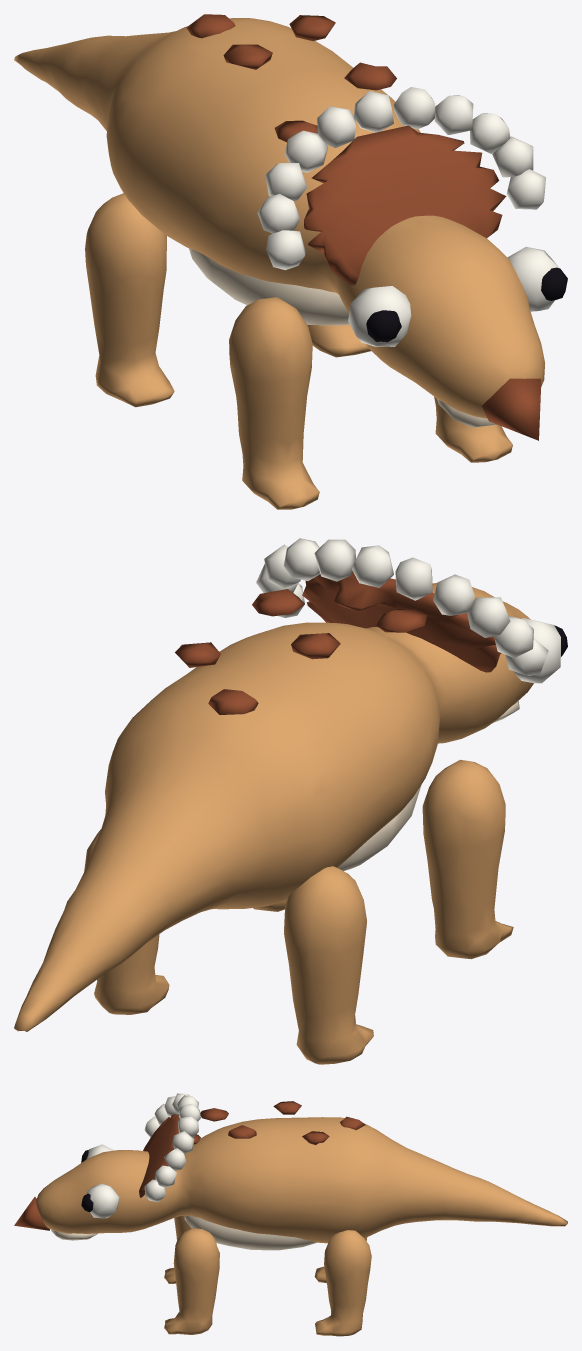
Rendered from Dino_Protoceratops.fbx.
The picture shows the model from 3 angles, top to bottom: view 1: azimuth 30°, elevation 25°; view 2: azimuth 150°, elevation 25°; view 3: azimuth 270°, elevation 25°; orthographic projection. The views are drawn at different scales.
Visible parts, largest first — view 1: Body, Accent, EyeWhite, LegFL, LegBL, Belly, LegFR, Pupil, LegBR; view 2: Body, LegFL, LegBL, EyeWhite, Accent, LegBR, Belly; view 3: Body, LegFR, LegBR, EyeWhite, Accent, Belly, LegFL.
Boxes of the visible parts, x1,y1,x2,y2 form: Body: [14, 18, 544, 418]; Accent: [186, 14, 541, 440]; EyeWhite: [257, 87, 559, 346]; LegFL: [229, 297, 319, 509]; LegBL: [85, 193, 174, 407]; Belly: [189, 248, 496, 427]; LegFR: [434, 396, 512, 462]; Pupil: [366, 267, 567, 342]; LegBR: [307, 324, 370, 357]; Body: [14, 583, 533, 1031]; LegFL: [422, 759, 513, 959]; LegBL: [284, 866, 373, 1064]; EyeWhite: [256, 538, 560, 683]; Accent: [175, 571, 501, 714]; LegBR: [84, 829, 169, 1014]; Belly: [338, 701, 519, 871]; Body: [36, 1117, 567, 1243]; LegFR: [164, 1228, 219, 1334]; LegBR: [315, 1230, 371, 1336]; EyeWhite: [86, 1093, 200, 1218]; Accent: [14, 1101, 365, 1230]; Belly: [51, 1215, 316, 1250]; LegFL: [164, 1216, 191, 1283].
Size of the model in its own units: 2.46 by 3.18 by 7.9.
